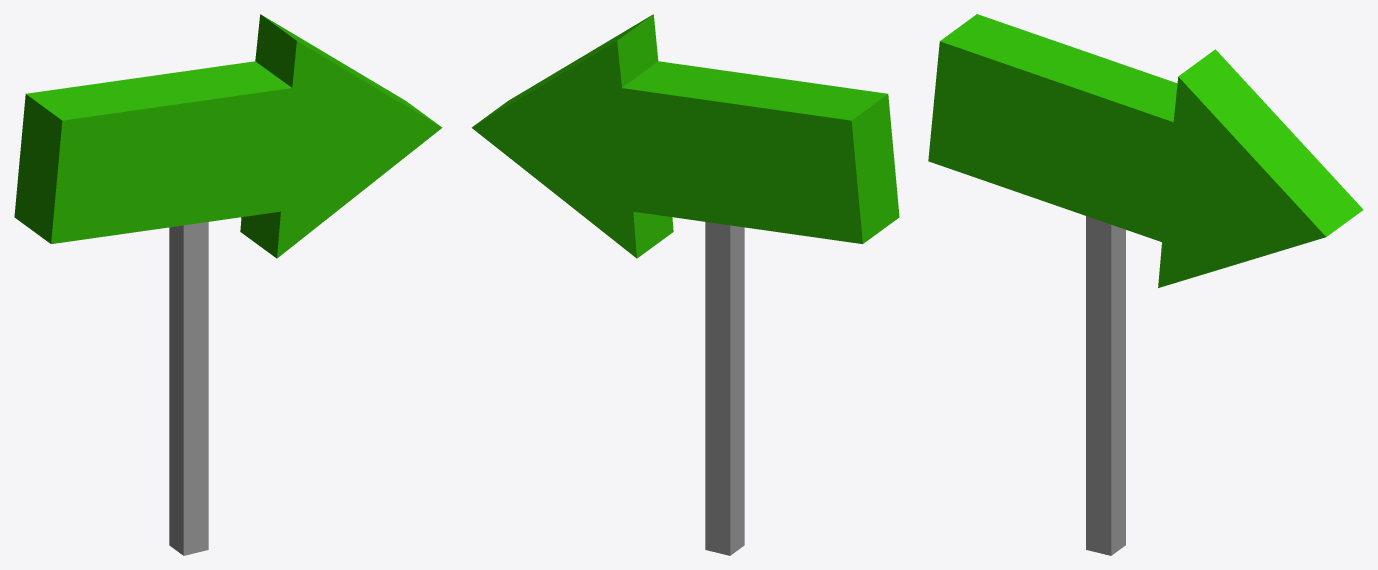
The model's file is arrowPost.fbx.
3 views of the same model, side by side, from view 1: azimuth 30°, elevation 25°; view 2: azimuth 150°, elevation 25°; view 3: azimuth 330°, elevation 25° (orthographic).
Visible parts, largest first — view 1: pCube3; view 2: pCube3; view 3: pCube3.
Boxes of the visible parts, x1=… form: pCube3: x1=14, y1=14, x2=442, y2=555; pCube3: x1=471, y1=14, x2=899, y2=555; pCube3: x1=928, y1=14, x2=1363, y2=555.
Size of the model in its own units: 1.63 by 1.98 by 0.2637.
